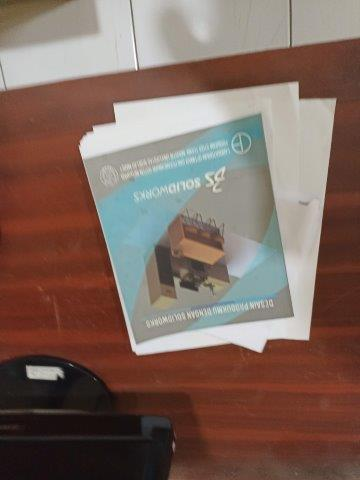kertas: (78, 82, 337, 357)
